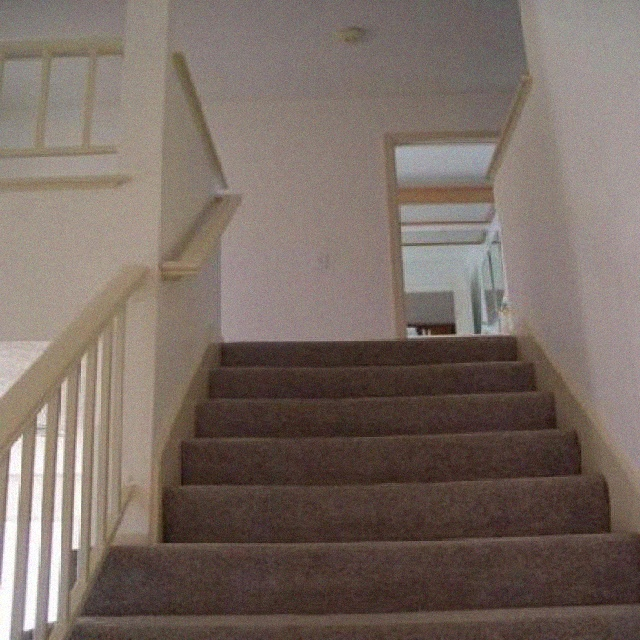stair: (86, 197, 619, 634)
